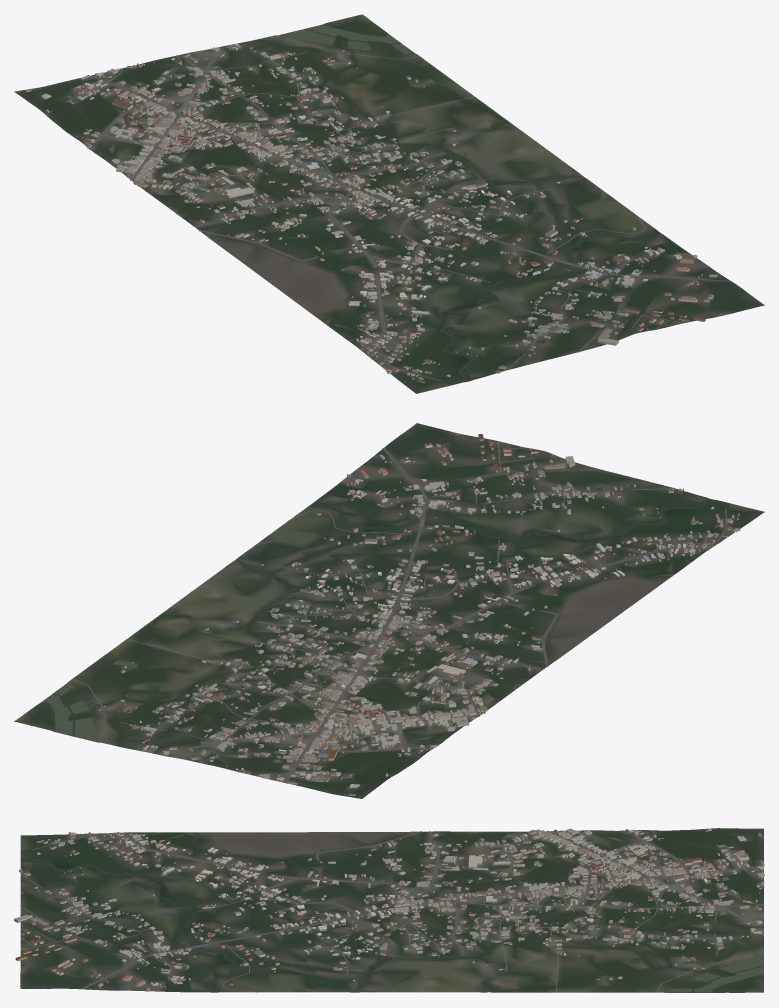
3 views of the same model, one above another, from view 1: azimuth 30°, elevation 25°; view 2: azimuth 150°, elevation 25°; view 3: azimuth 270°, elevation 25° (orthographic). The views are drawn at different scales.
Parts seen in each view (by area): view 1: ground, buildings, roads, water; view 2: ground, buildings, roads, water; view 3: ground, buildings, roads, water.
Boxes of the visible parts, left/top/right/bottom form: ground: left=14, top=14, right=764, bottom=393; buildings: left=25, top=43, right=722, bottom=383; roads: left=66, top=36, right=731, bottom=381; water: left=280, top=25, right=660, bottom=381; ground: left=14, top=423, right=764, bottom=798; buildings: left=98, top=433, right=740, bottom=796; roads: left=72, top=441, right=733, bottom=788; water: left=41, top=499, right=713, bottom=741; ground: left=20, top=828, right=763, bottom=992; buildings: left=14, top=828, right=764, bottom=991; roads: left=20, top=830, right=764, bottom=992; water: left=21, top=858, right=763, bottom=992.
Bounding box in the file's own units: 1412 × 40.76 × 2830.
